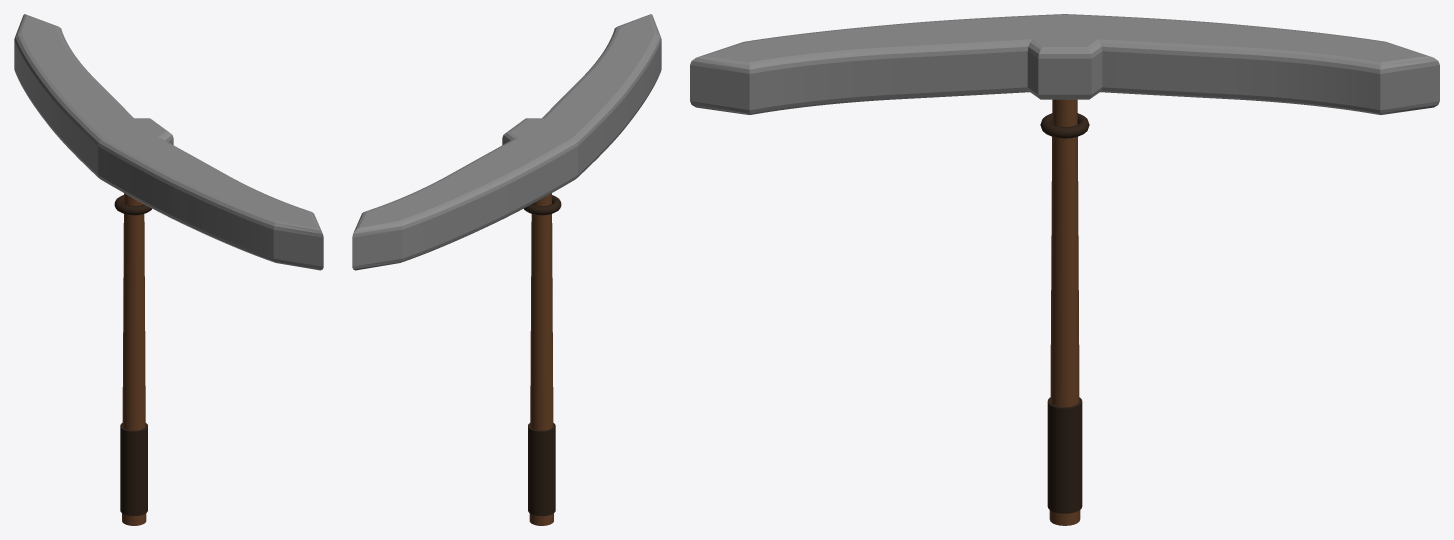
Rendered from stone_pickaxe.glb.
3 renders of one model, left to right at view 1: azimuth 30°, elevation 25°; view 2: azimuth 150°, elevation 25°; view 3: azimuth 270°, elevation 25°, orthographic. The views are drawn at different scales.
Parts seen in each view (by area): view 1: head, handle, gripWrap, binding0; view 2: head, handle, gripWrap, binding0; view 3: head, handle, gripWrap.
Boxes of the visible parts, left/top/right/bottom form: head: left=14, top=14, right=323, bottom=270; handle: left=122, top=193, right=146, bottom=525; gripWrap: left=120, top=423, right=147, bottom=516; binding0: left=114, top=195, right=151, bottom=215; head: left=352, top=14, right=661, bottom=270; handle: left=529, top=193, right=553, bottom=525; gripWrap: left=528, top=423, right=555, bottom=516; binding0: left=524, top=195, right=561, bottom=215; head: left=690, top=14, right=1439, bottom=114; handle: left=1049, top=99, right=1080, bottom=525; gripWrap: left=1047, top=397, right=1082, bottom=513.
Size of the model in its own units: 0.1798 by 0.7395 by 1.03.
